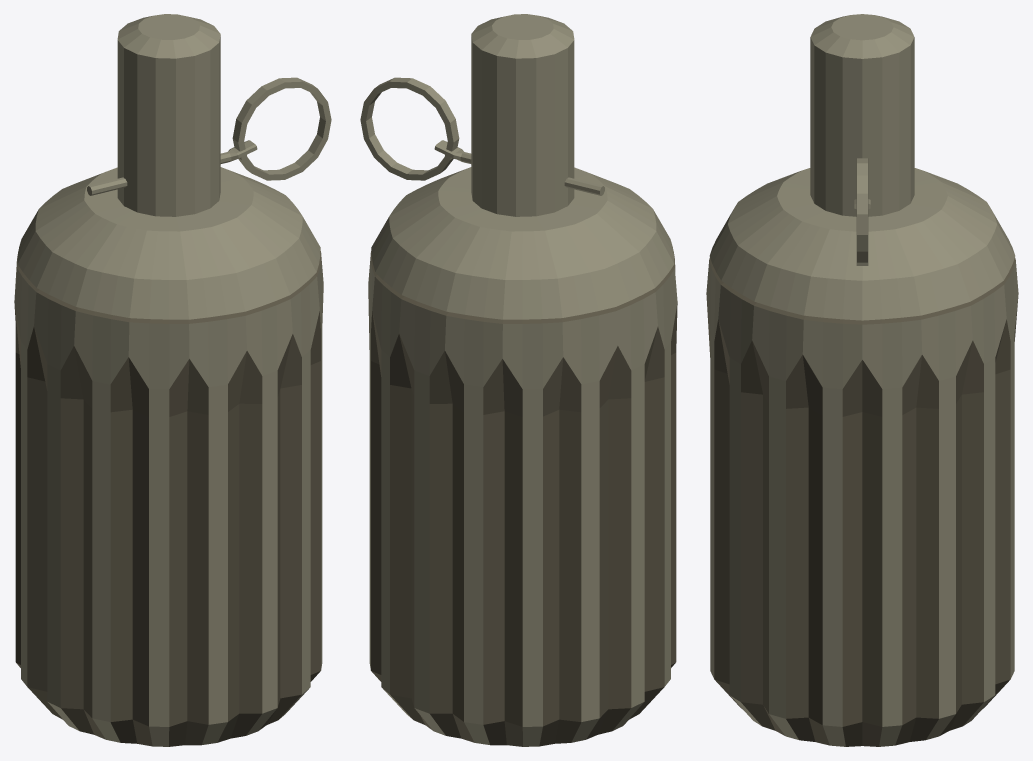
The model's file is Grenade1.fbx.
The picture shows the model from 3 angles, left to right: view 1: azimuth 30°, elevation 25°; view 2: azimuth 150°, elevation 25°; view 3: azimuth 270°, elevation 25°; orthographic projection.
Visible parts, largest first — view 1: Cylinder, Cylinder.001, Torus, Cylinder.002; view 2: Cylinder, Cylinder.001, Torus, Cylinder.002; view 3: Cylinder, Cylinder.001, Torus.
Boxes of the visible parts, x1,y1,x2,y2 form: Cylinder: (14,167,323,746); Cylinder.001: (117,14,220,216); Torus: (232,77,331,180); Cylinder.002: (87,140,257,195); Cylinder: (368,167,677,746); Cylinder.001: (471,14,574,216); Torus: (360,77,459,180); Cylinder.002: (434,140,604,195); Cylinder: (706,168,1018,746); Cylinder.001: (810,14,914,216); Torus: (856,158,868,265).
Size of the model in its own units: 9.82 by 21.22 by 9.
